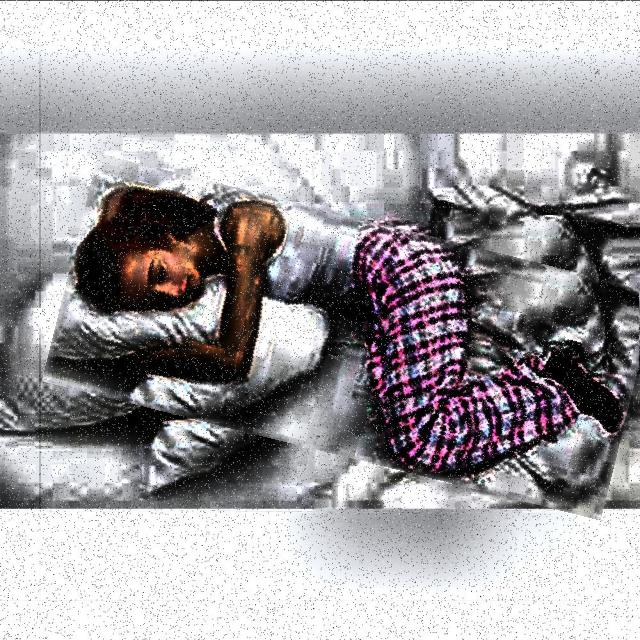Not_Supine: (72, 182, 630, 478)
